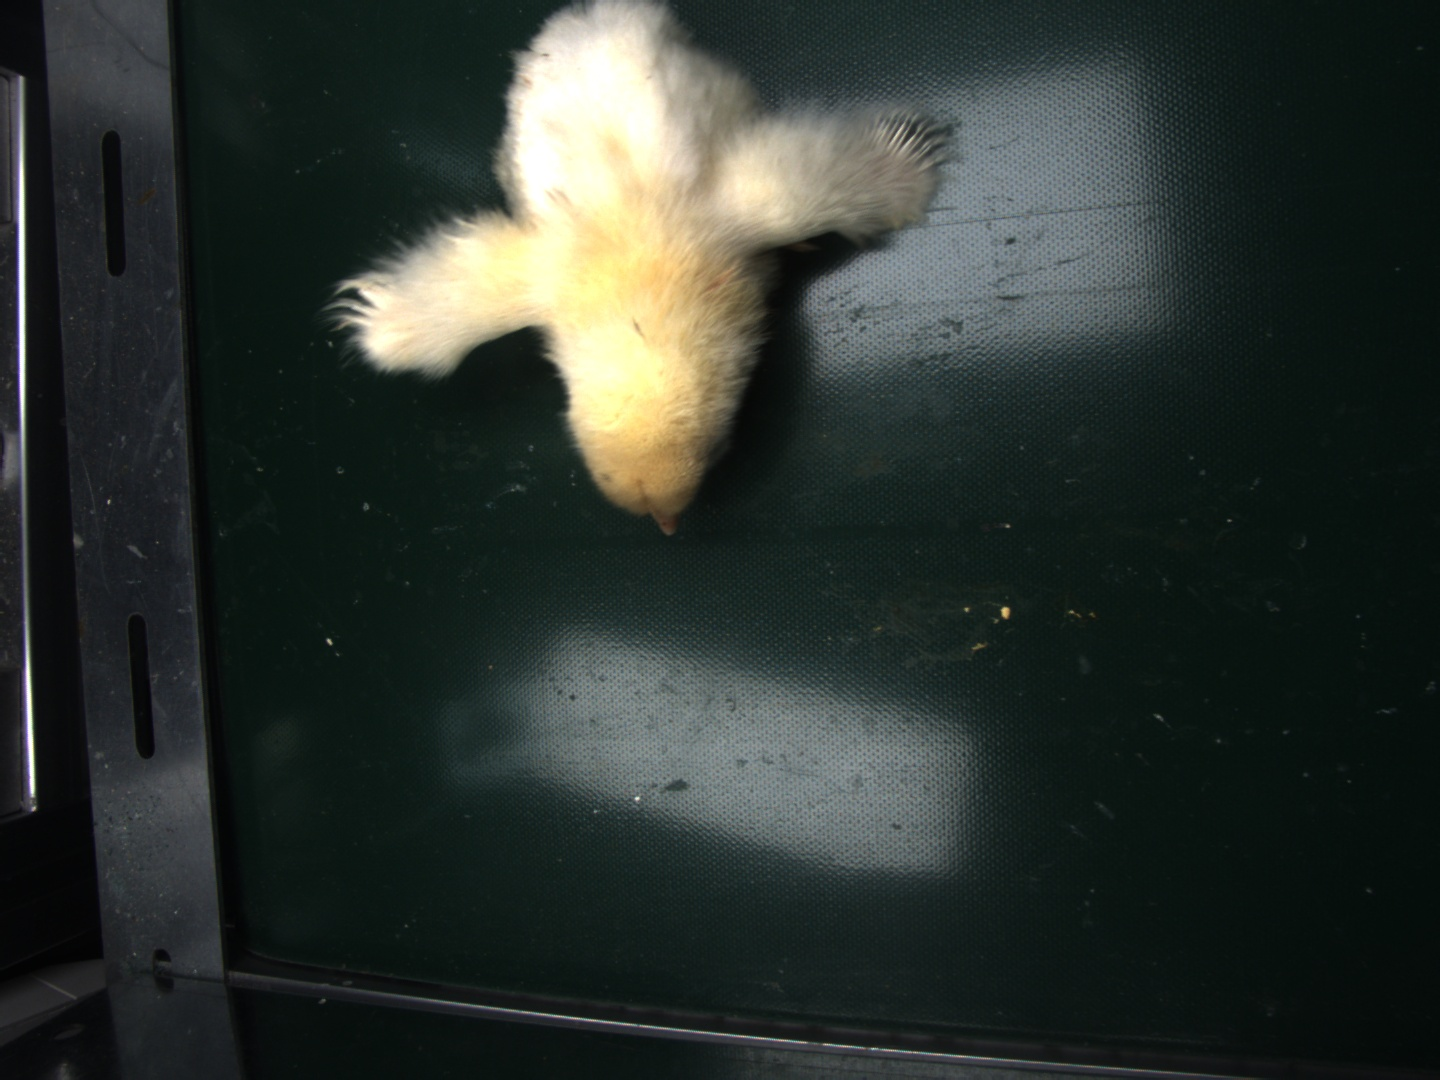male: (873, 117, 934, 166)
